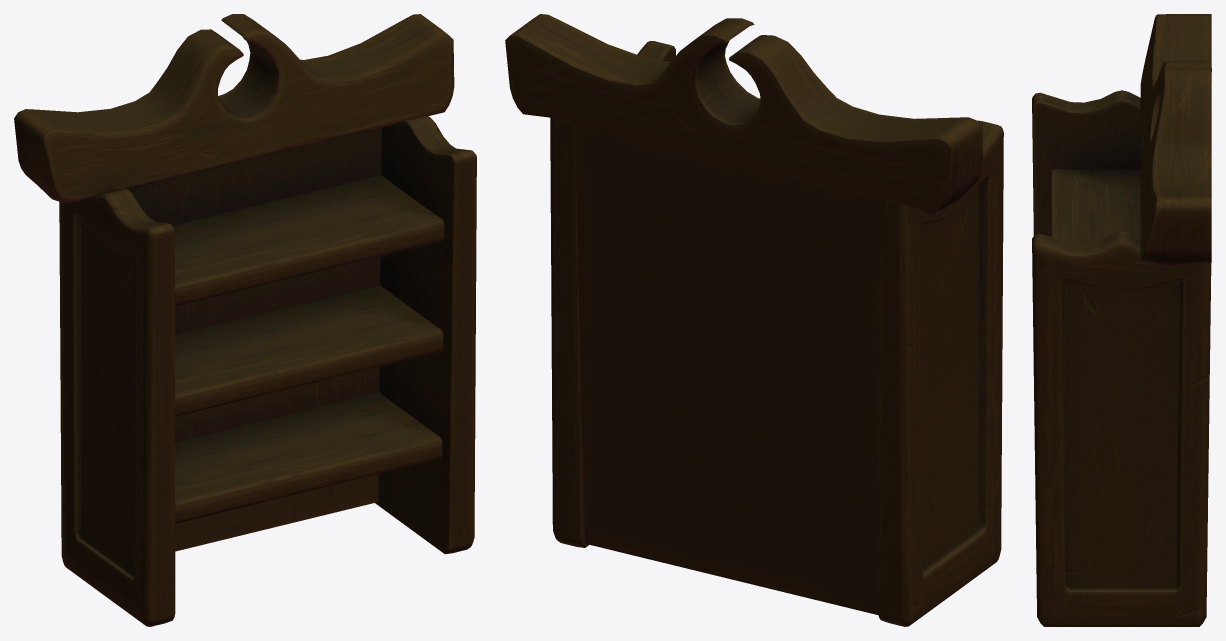
The model's file is SM_Shelf.gltf.
The picture shows the model from 3 angles, left to right: view 1: azimuth 30°, elevation 25°; view 2: azimuth 150°, elevation 25°; view 3: azimuth 270°, elevation 25°; orthographic projection. The views are drawn at different scales.
Parts seen in each view (by area): view 1: SM_Shelf; view 2: SM_Shelf; view 3: SM_Shelf.
Boxes of the visible parts, left/top/right/bottom form: SM_Shelf: left=14, top=14, right=476, bottom=626; SM_Shelf: left=505, top=14, right=1003, bottom=626; SM_Shelf: left=1032, top=14, right=1211, bottom=626.
Size of the model in its own units: 1.95 by 2.31 by 0.7708.
1 material, 1 textured.
